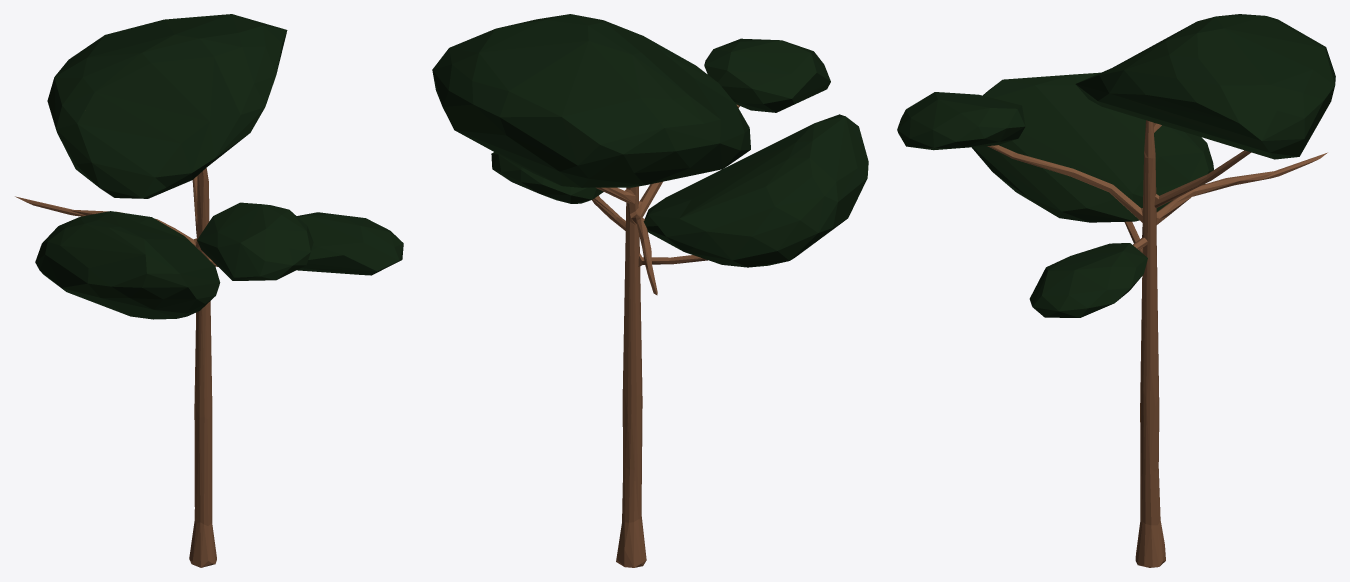
File: SM_tree_medium_02.fbx
3 renders of one model, left to right at view 1: azimuth 30°, elevation 25°; view 2: azimuth 150°, elevation 25°; view 3: azimuth 270°, elevation 25°, orthographic. The views are drawn at different scales.
Visible parts, largest first — view 1: Object014; view 2: Object014; view 3: Object014.
Boxes of the visible parts, box(x1,y1,x2,y2) form: Object014: box(15, 14, 403, 567); Object014: box(432, 14, 868, 567); Object014: box(897, 14, 1335, 567).
Size of the model in its own units: 189 by 202 by 274.
